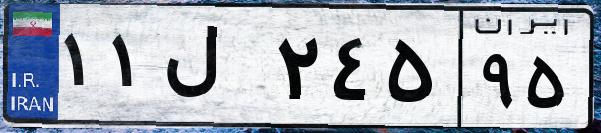1: (57, 26, 110, 100), (110, 28, 158, 98)
2: (270, 28, 330, 110)
4: (330, 28, 385, 110)
5: (385, 28, 445, 110), (525, 38, 570, 115)
9: (475, 38, 525, 113)
ل: (158, 20, 270, 120)
